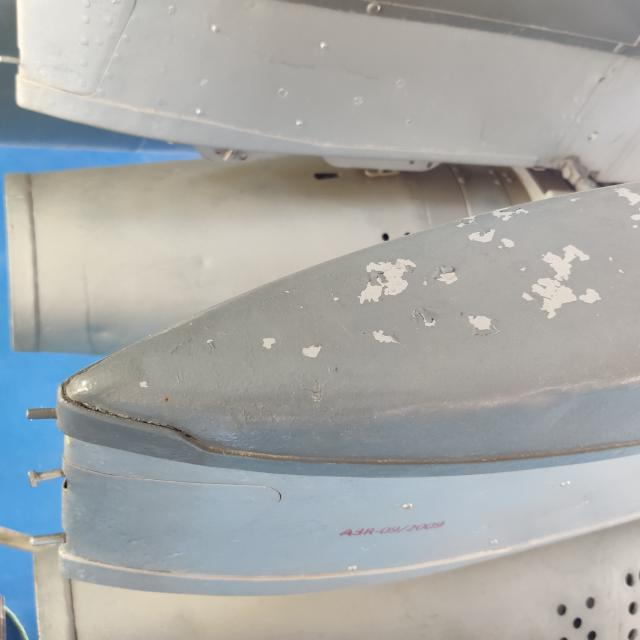paint-off: (519, 241, 606, 324), (449, 198, 536, 255), (348, 250, 421, 312), (607, 182, 640, 224), (406, 303, 446, 335), (428, 258, 462, 292), (462, 310, 498, 337), (296, 338, 328, 365), (370, 324, 401, 348), (256, 334, 278, 354)
